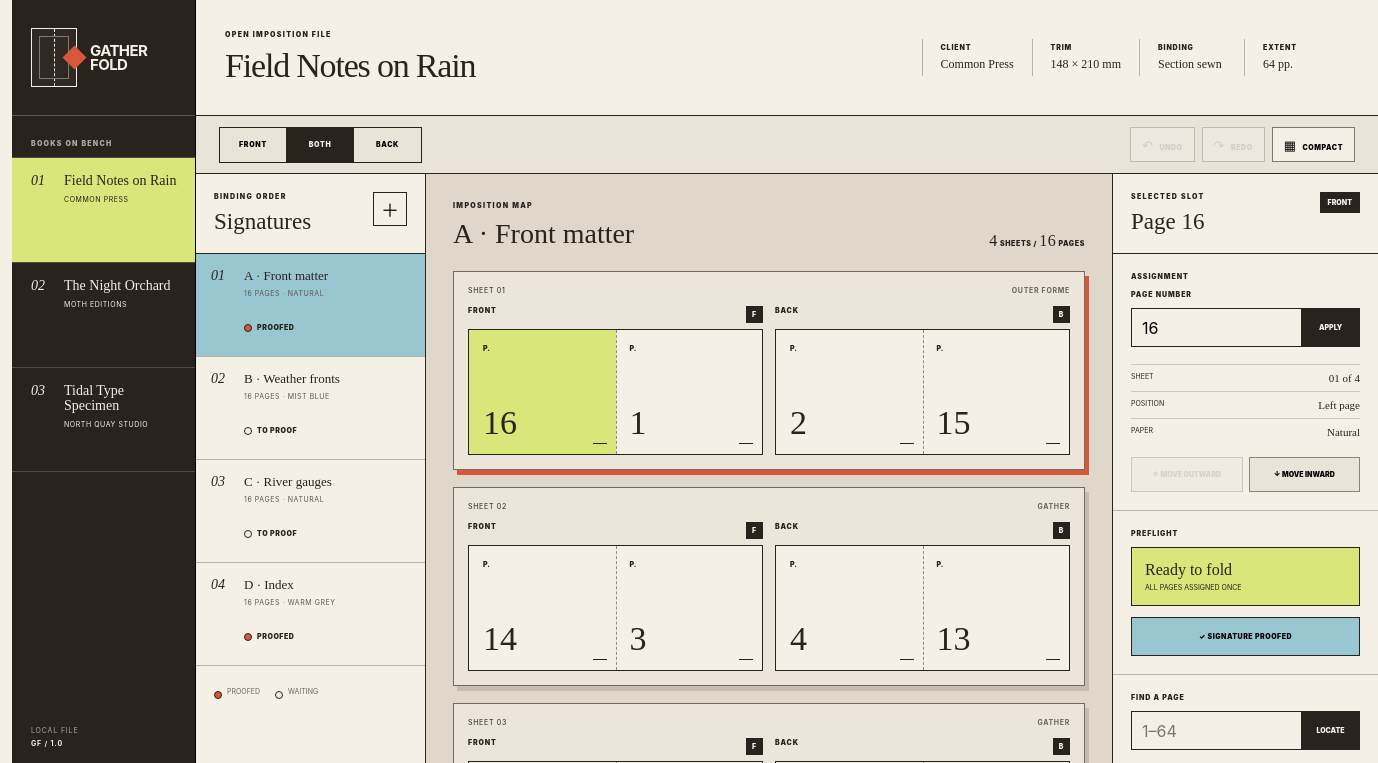
Test: Gatherfold workbench › moves the selected physical sheet and can undo the order change
Expected: the text "01 of 4" is shown, [1329,372,1360,384]
Click the button "↓ Move inward".
click(1304, 474)  # box [1248,457,1360,492]
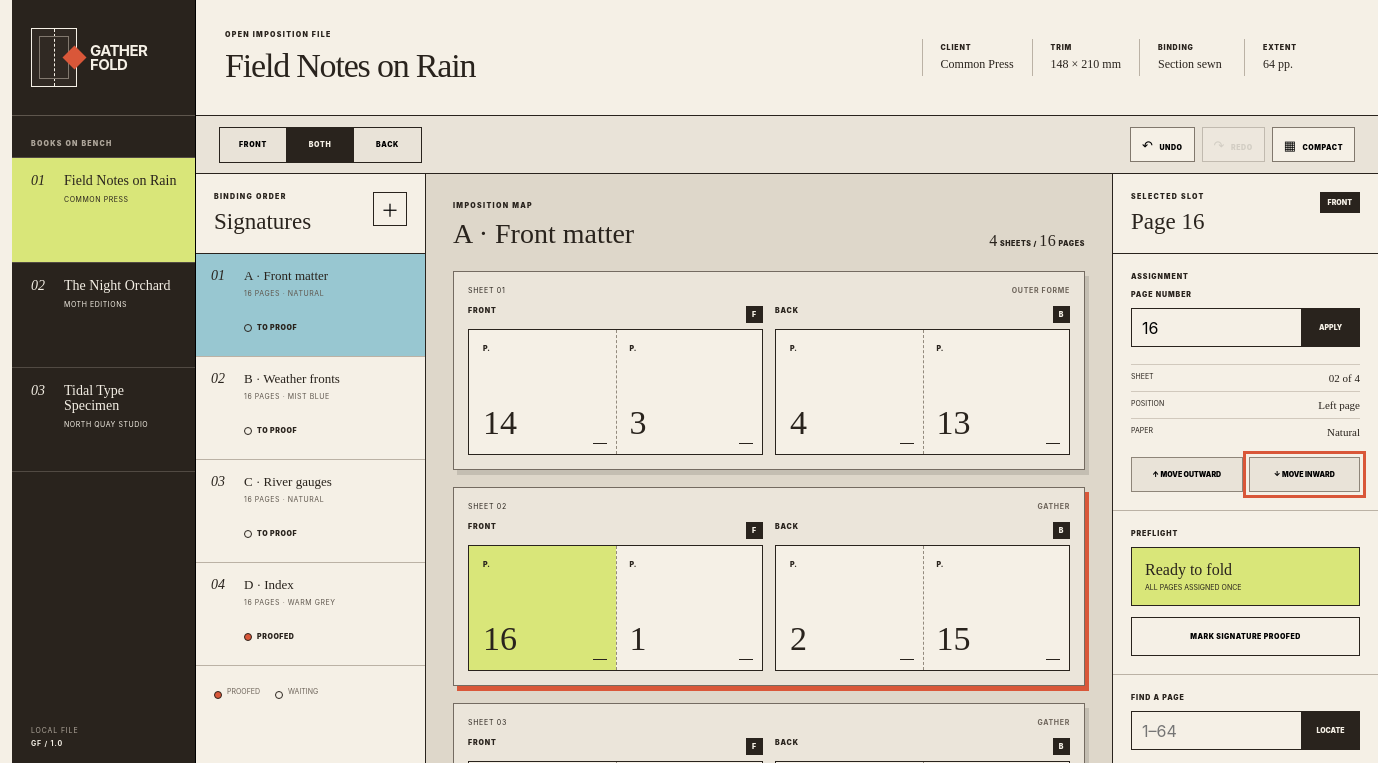
Expected: the text "02 of 4" is shown, [1329,372,1360,384]
Click the button with aria-label "Undo last change".
click(1162, 144)  # box [1130,127,1195,162]
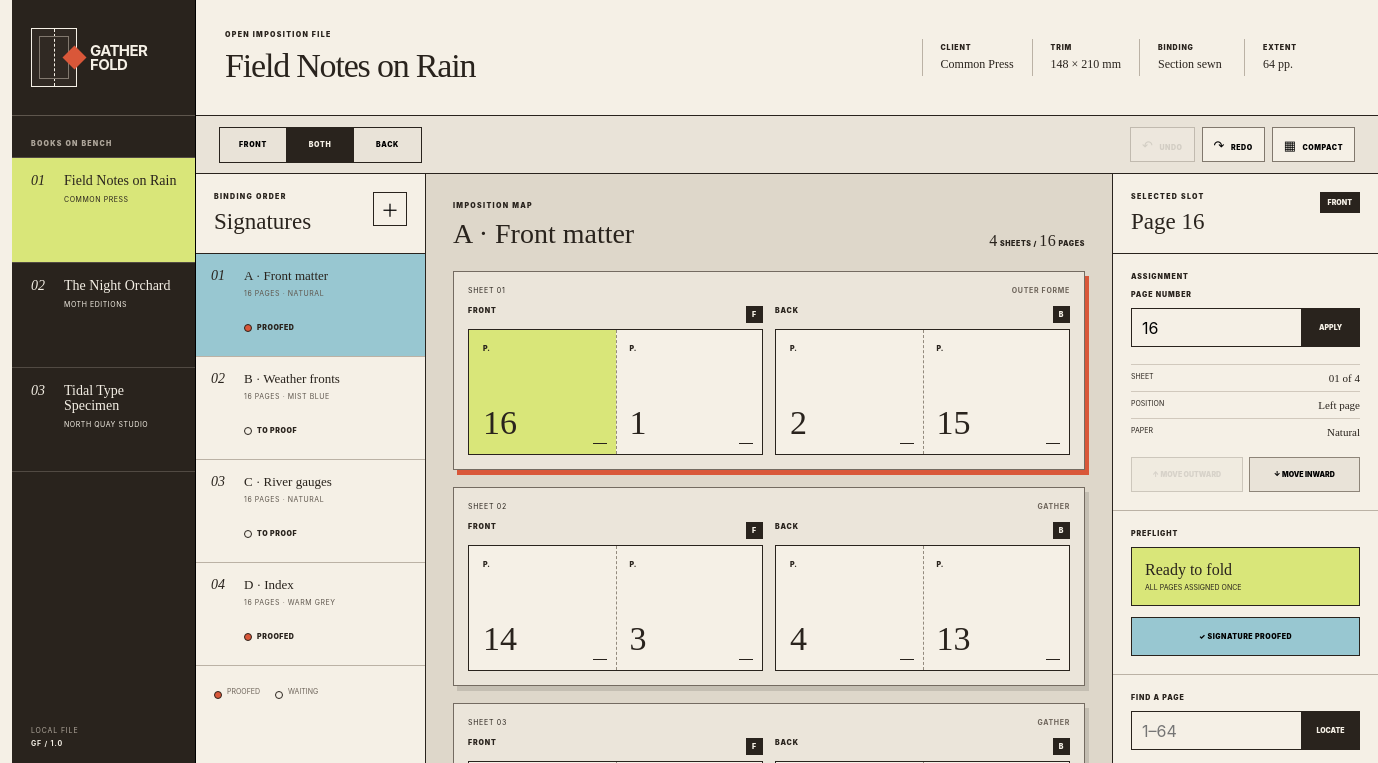
Expected: the text "01 of 4" is shown, [1329,372,1360,384]
